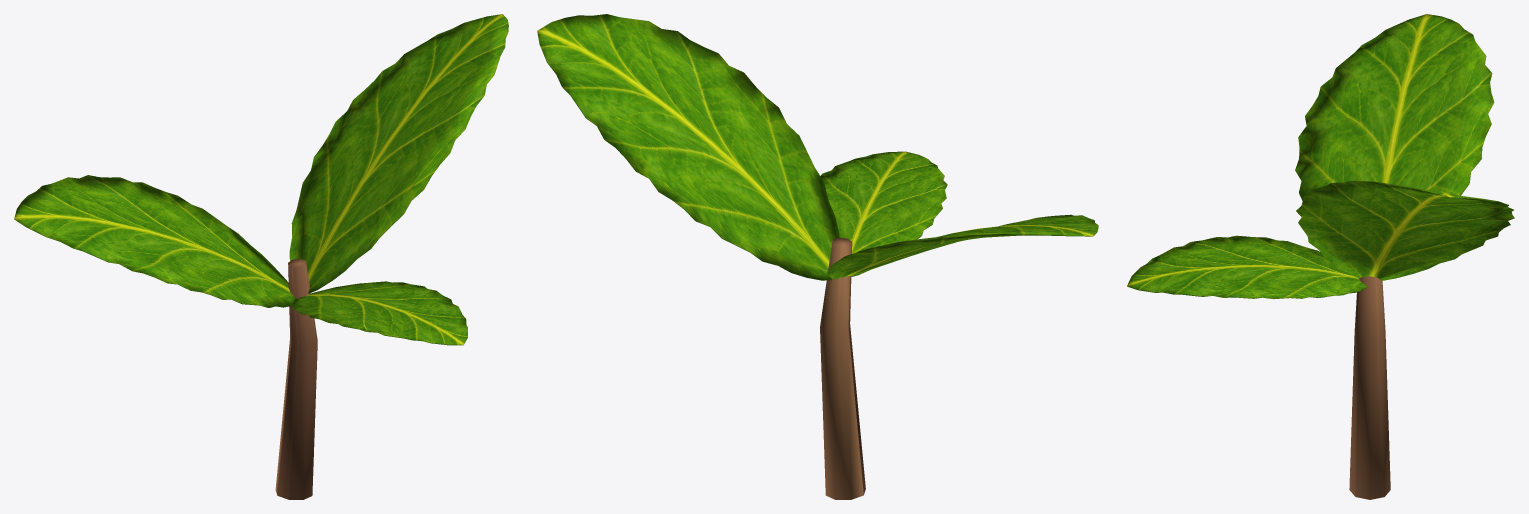
File: NP_Raspberry_Sprout_LOD1.fbx
3 renders of one model, left to right at view 1: azimuth 30°, elevation 25°; view 2: azimuth 150°, elevation 25°; view 3: azimuth 270°, elevation 25°, orthographic. The views are drawn at different scales.
Parts seen in each view (by area): view 1: NP_Raspberry_Sprout; view 2: NP_Raspberry_Sprout; view 3: NP_Raspberry_Sprout.
Boxes of the visible parts, x1,y1,x2,y2 form: NP_Raspberry_Sprout: (14, 14, 508, 499); NP_Raspberry_Sprout: (537, 14, 1098, 499); NP_Raspberry_Sprout: (1127, 14, 1514, 499).
Size of the model in its own units: 30.17 by 22.79 by 18.77.
